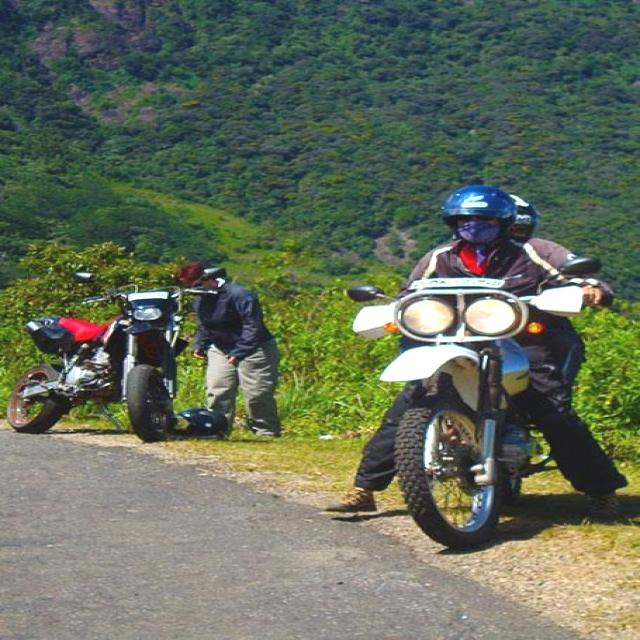Cycle: (342, 255, 613, 551), (3, 266, 232, 443)
